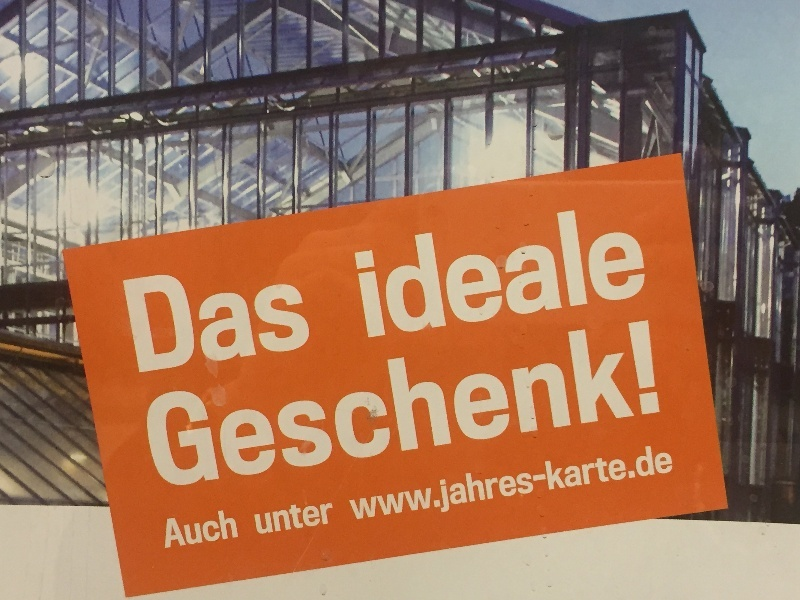text: (145, 319, 160, 492), (161, 319, 176, 492), (177, 319, 192, 492), (193, 319, 208, 492), (209, 319, 224, 492), (225, 319, 240, 492), (241, 319, 256, 492), (257, 319, 272, 492), (273, 319, 288, 492), (289, 319, 304, 492), (305, 319, 320, 492), (321, 319, 336, 492), (337, 319, 352, 492), (353, 319, 368, 492), (369, 319, 384, 492), (385, 319, 400, 492), (401, 319, 416, 492), (417, 319, 432, 492), (433, 319, 448, 492), (449, 319, 464, 492), (465, 319, 480, 492), (481, 319, 496, 492), (497, 319, 512, 492), (513, 319, 528, 492), (529, 319, 544, 492), (545, 319, 560, 492), (561, 319, 576, 492), (577, 319, 592, 492), (593, 319, 608, 492), (609, 319, 624, 492), (625, 319, 640, 492), (641, 319, 656, 492), (353, 201, 368, 341), (369, 201, 384, 341), (385, 201, 400, 341), (401, 201, 416, 341), (417, 201, 432, 341), (433, 201, 448, 341), (449, 201, 464, 341), (465, 201, 480, 341), (481, 201, 496, 341), (497, 201, 512, 341), (513, 201, 528, 341), (529, 201, 544, 341), (545, 201, 560, 341), (561, 201, 576, 341), (577, 201, 592, 341), (593, 201, 608, 341), (609, 201, 624, 341), (625, 201, 640, 341), (129, 262, 144, 376), (145, 262, 160, 376), (161, 262, 176, 376), (177, 262, 192, 376), (193, 262, 208, 376), (209, 262, 224, 376), (225, 262, 240, 376), (241, 262, 256, 376), (257, 262, 272, 376), (273, 262, 288, 376), (289, 262, 304, 376), (657, 444, 673, 529), (353, 444, 368, 529), (369, 444, 384, 529), (385, 444, 400, 529), (401, 444, 416, 529), (417, 444, 432, 529), (433, 444, 448, 529), (449, 444, 464, 529), (465, 444, 480, 529), (481, 444, 496, 529), (497, 444, 512, 529), (513, 444, 528, 529), (529, 444, 544, 529), (545, 444, 560, 529), (561, 444, 576, 529), (577, 444, 592, 529), (593, 444, 608, 529), (609, 444, 624, 529), (625, 444, 640, 529), (641, 444, 656, 529), (641, 201, 650, 341), (657, 319, 663, 492), (305, 262, 313, 376), (139, 319, 144, 492), (122, 262, 128, 376), (344, 444, 352, 529), (177, 509, 192, 549), (193, 509, 208, 549), (209, 509, 224, 549), (225, 509, 239, 549), (257, 499, 272, 536), (273, 499, 288, 536), (289, 499, 304, 536), (305, 499, 320, 536), (321, 499, 333, 536), (167, 509, 176, 549), (254, 499, 256, 536)
